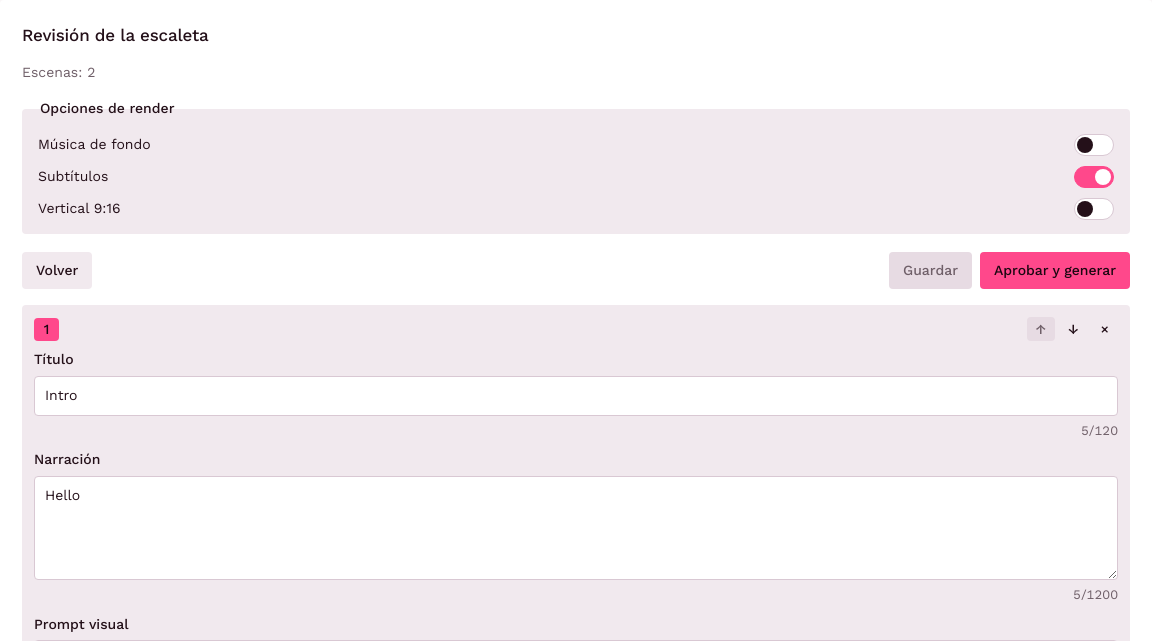
Test case: ReviewPanel › disables Guardar and Aprobar with a reason while a field is invalid
This screenshot has width=1152, height=641.
Clear the field labelled "Título" at (576, 396), box x1=34 y1=376 x2=1118 y2=416
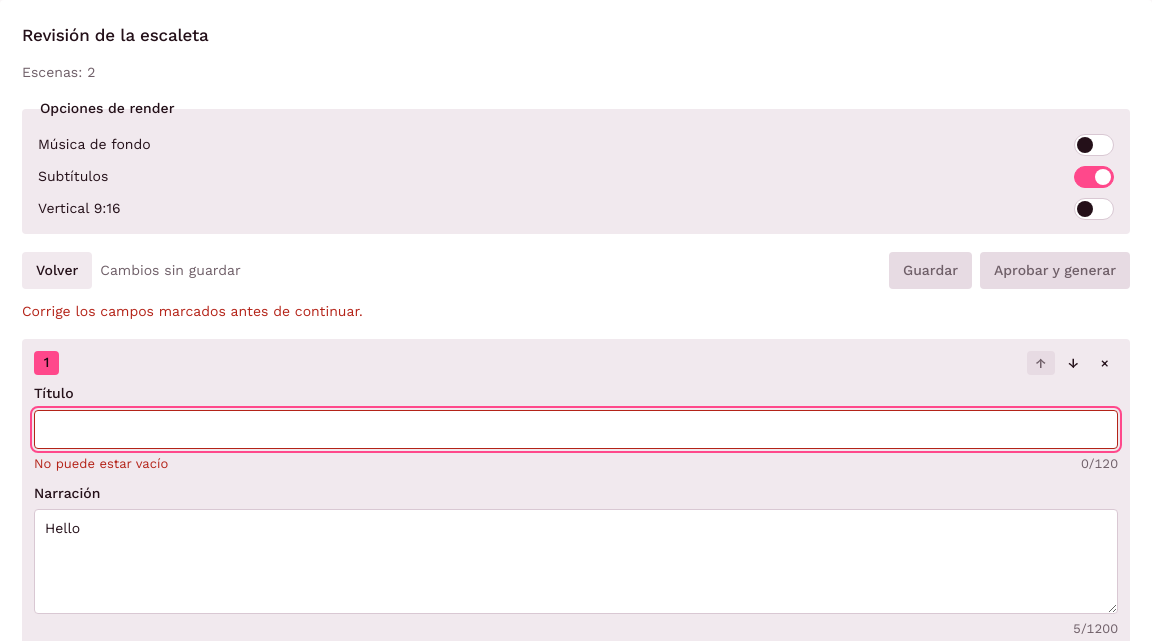
Expected: the button "Guardar" is disabled, x1=889 y1=252 x2=972 y2=289
Expected: the button "Aprobar y generar" is disabled, x1=980 y1=252 x2=1130 y2=289
